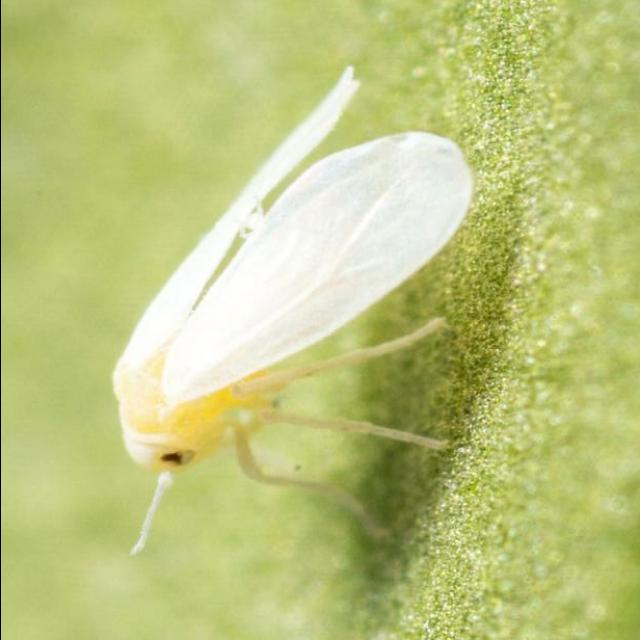Whitefly: (100, 32, 488, 568)
